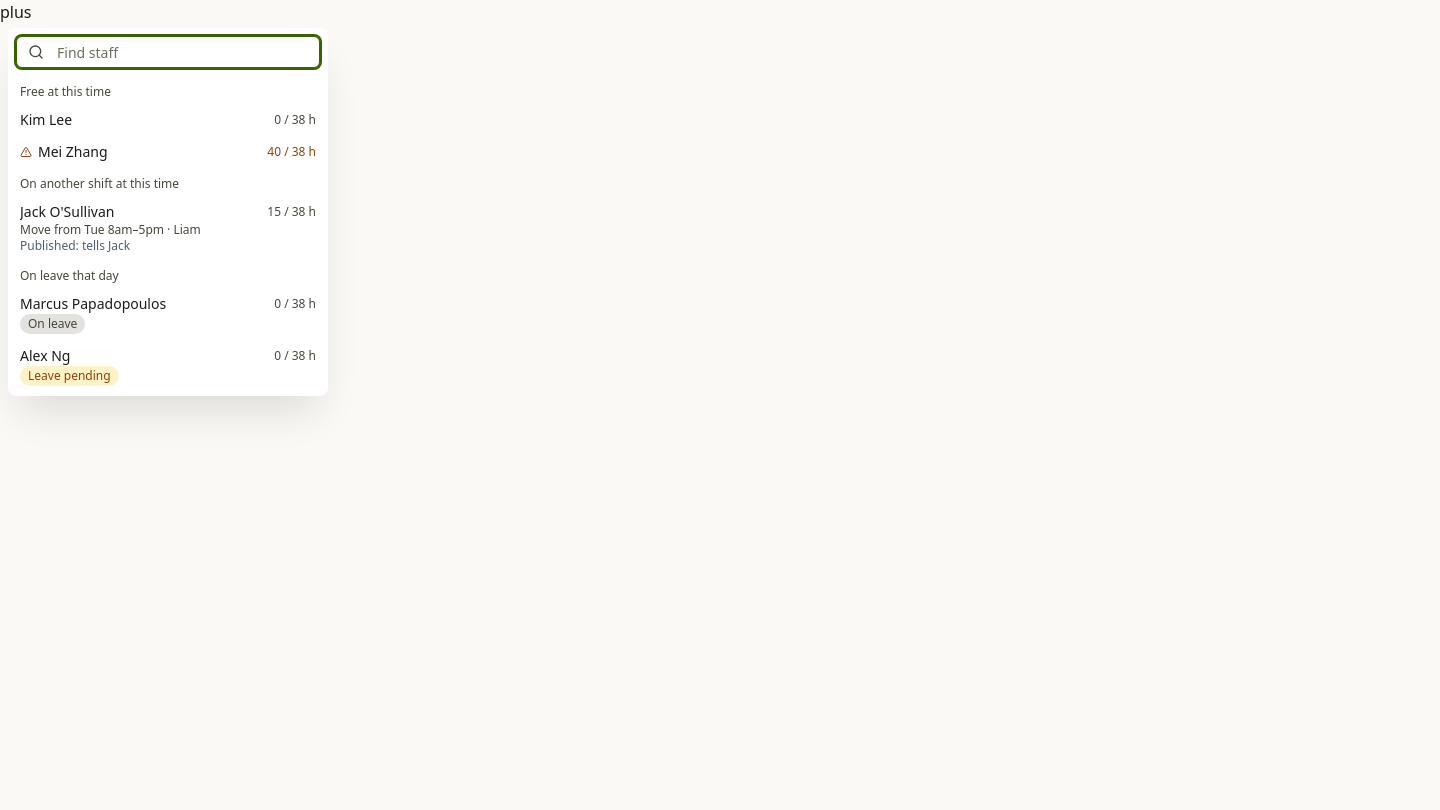
StaffPicker: who is offered, and how (the brief, section 4) › filters every group by any part of the name, and says so when nothing matches
The image size is (1440, 810).
Type "ng" into the dropdown labelled "Find staff" at (168, 52), box x1=16 y1=36 x2=320 y2=68
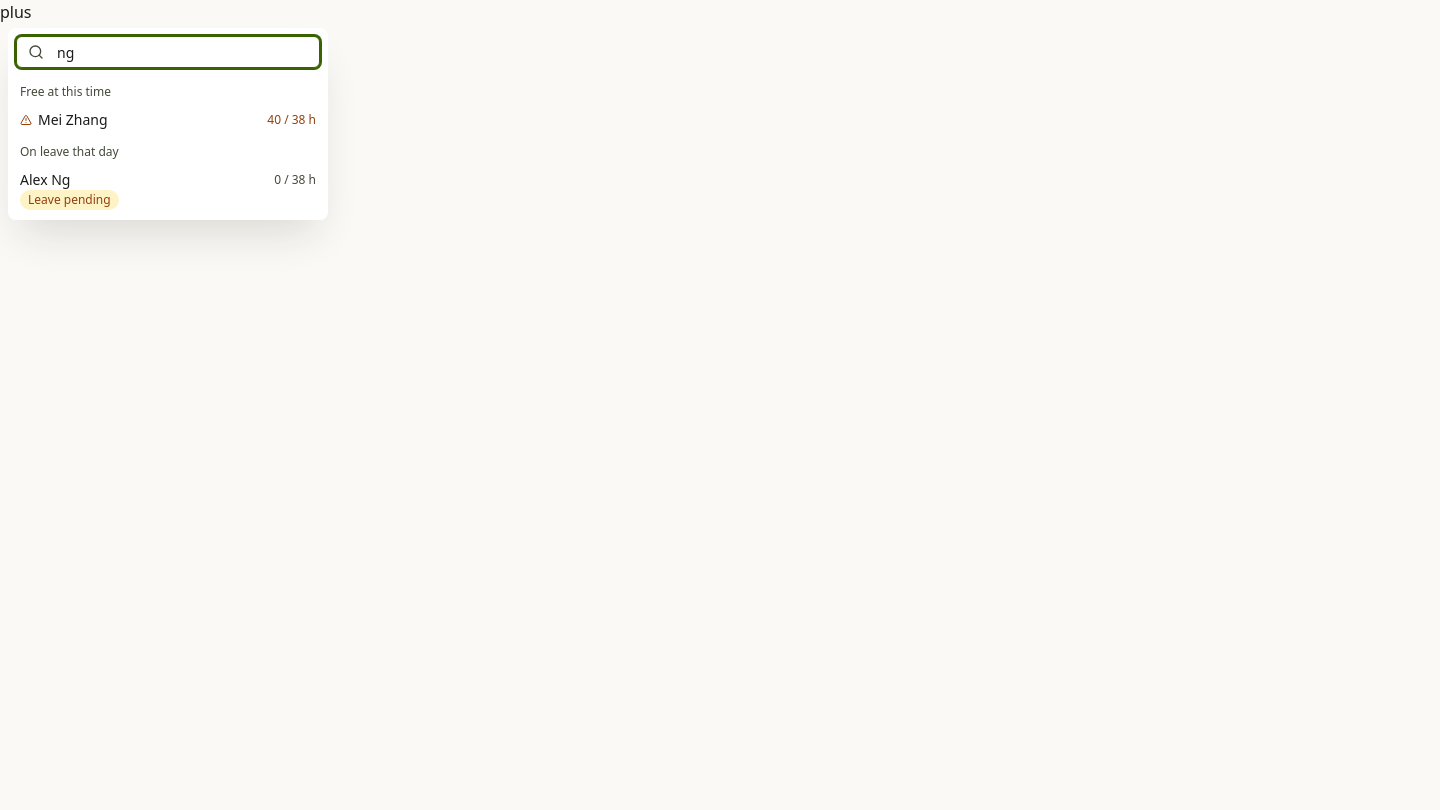
Replace the text in the dropdown named "Find staff" with "zz" at (168, 52), box x1=16 y1=36 x2=320 y2=68
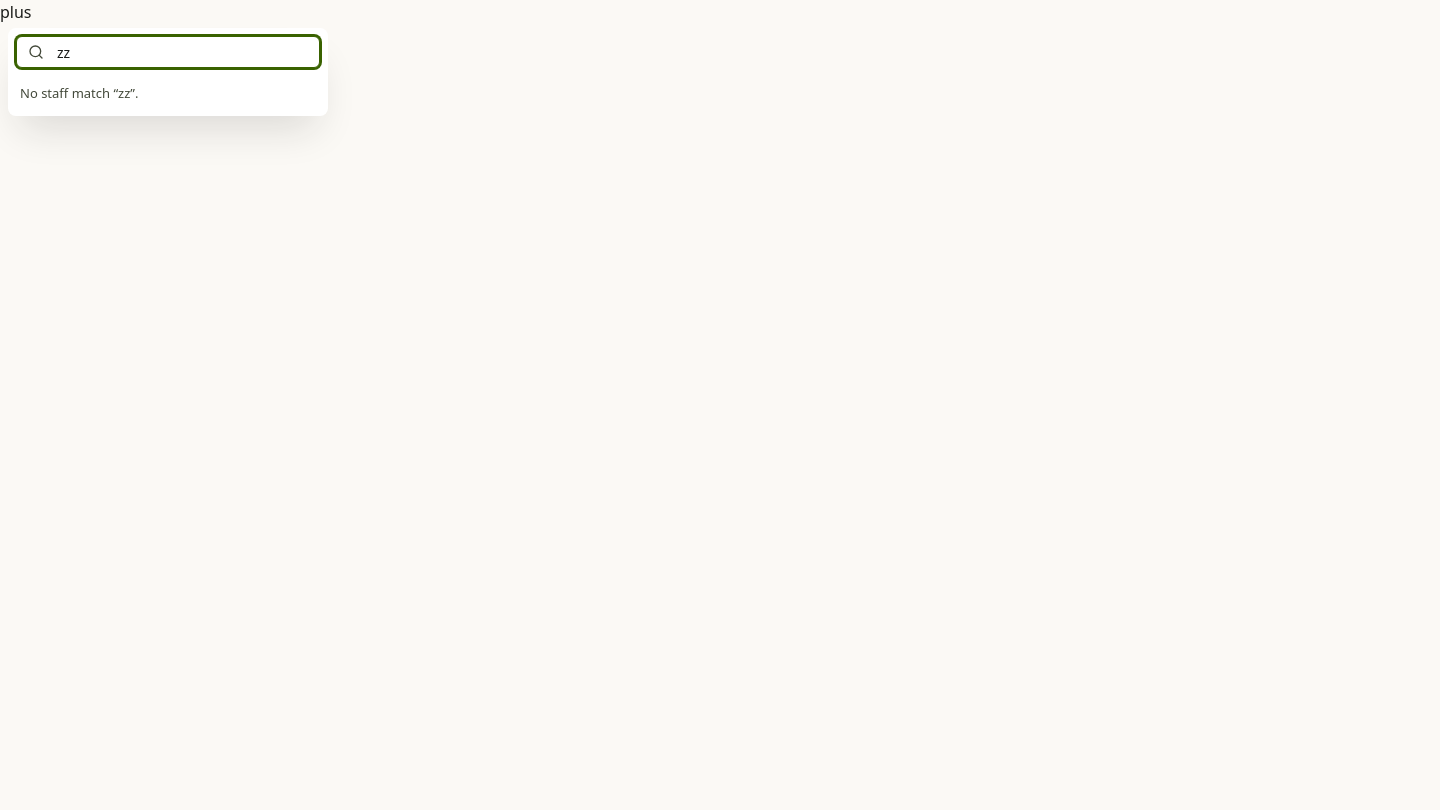
Result: the text "No staff match “zz”." is shown at x1=20 y1=84 x2=138 y2=102
